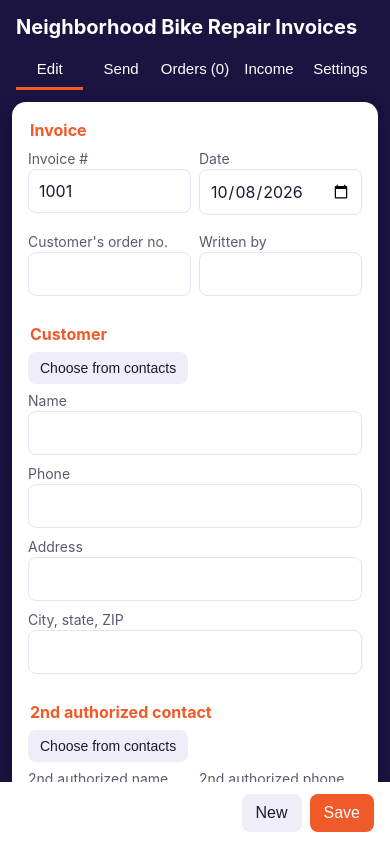
optional Face ID setting › defaults off and opens Income and tax settings without authentication
This screenshot has width=390, height=844.
Click the tab "Income".
click(269, 70)  # box [235,50,303,90]
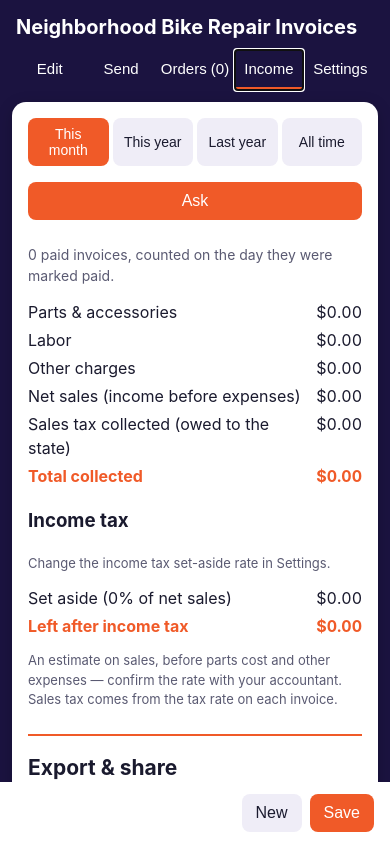
Expected: the text with test id "collected" is shown, [316,464,362,488]
Click the tab "Settings".
click(340, 70)  # box [307,50,374,90]
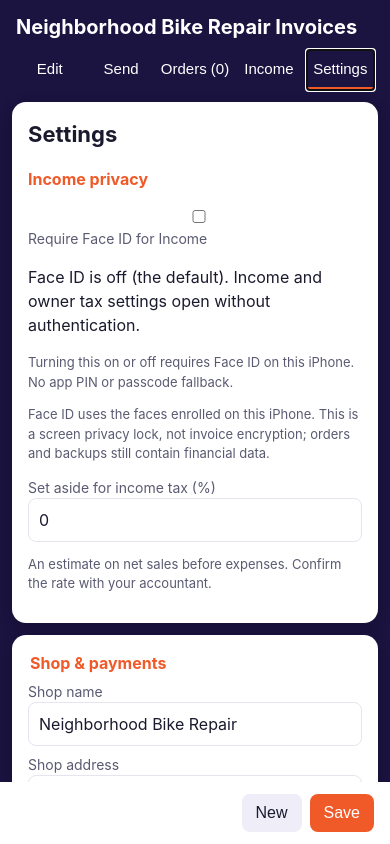
Expected: the switch labelled "Require Face ID for Income" is not checked, [32,210,366,223]
Expected: the number field labelled "Set aside for income tax (%)" is shown, [28,498,362,542]
